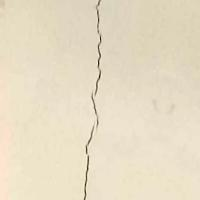crack: (72, 0, 121, 199)
